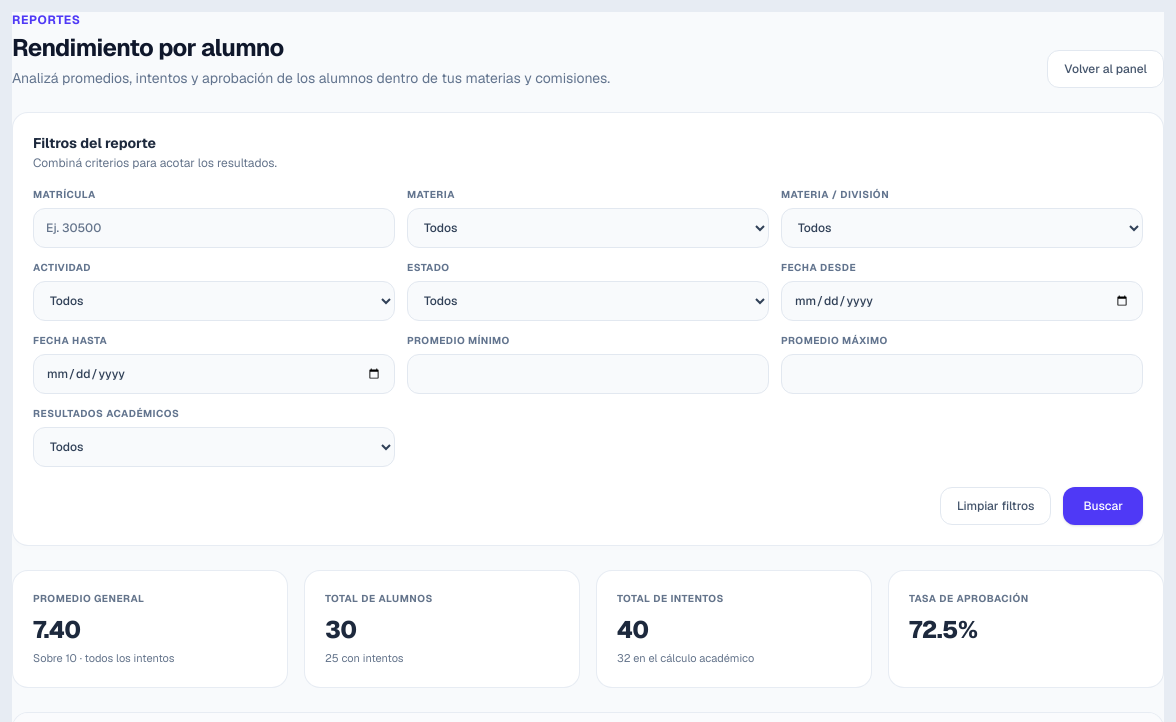
Test: reportes docentes › impide filtrar por actividad sin matrícula en el reporte por alumno
Select "Primer parcial" in the dropdown labelled "Actividad": x=214, y=301 x1=33 y1=281 x2=395 y2=321
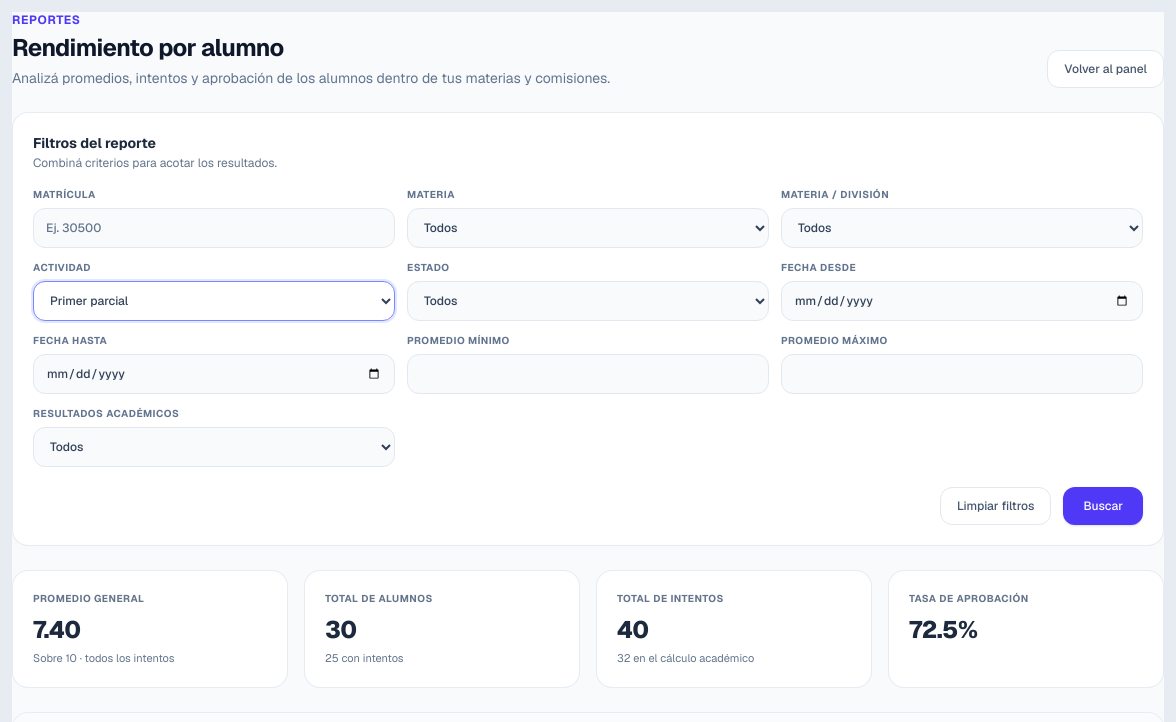
Click the button "Buscar": x=1103, y=506 x1=1063 y1=487 x2=1143 y2=525
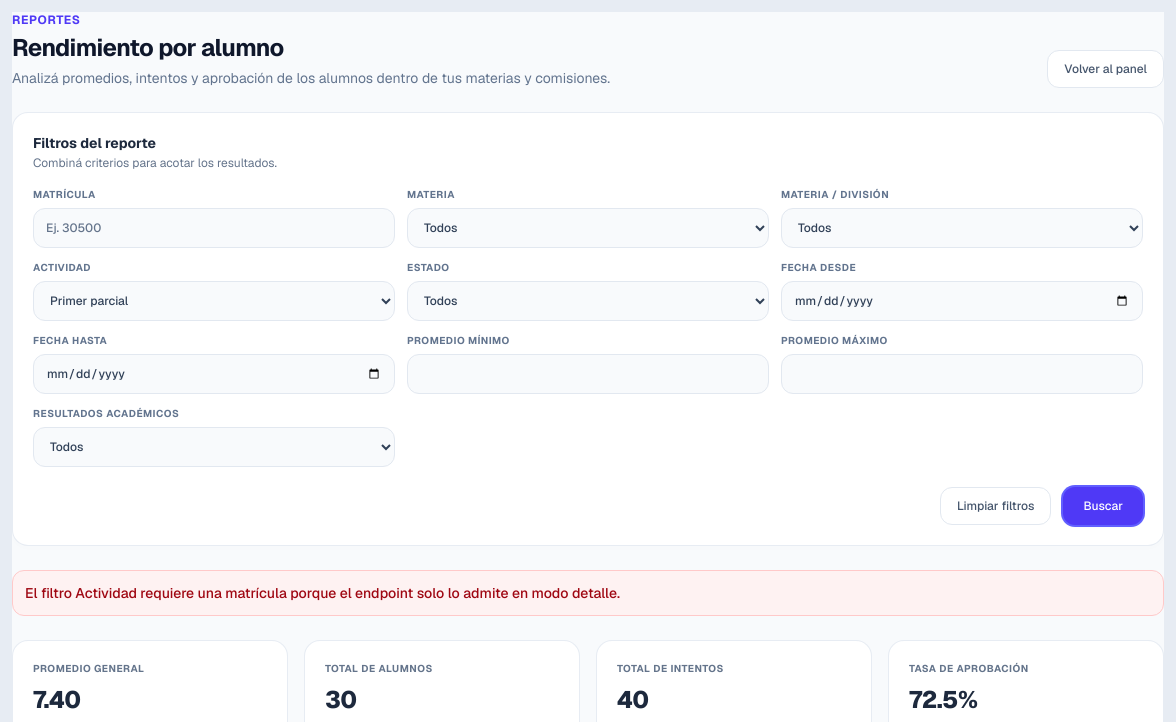
Expected: the text "El filtro Actividad requiere una matrícula" is shown, x1=25 y1=584 x2=620 y2=602
